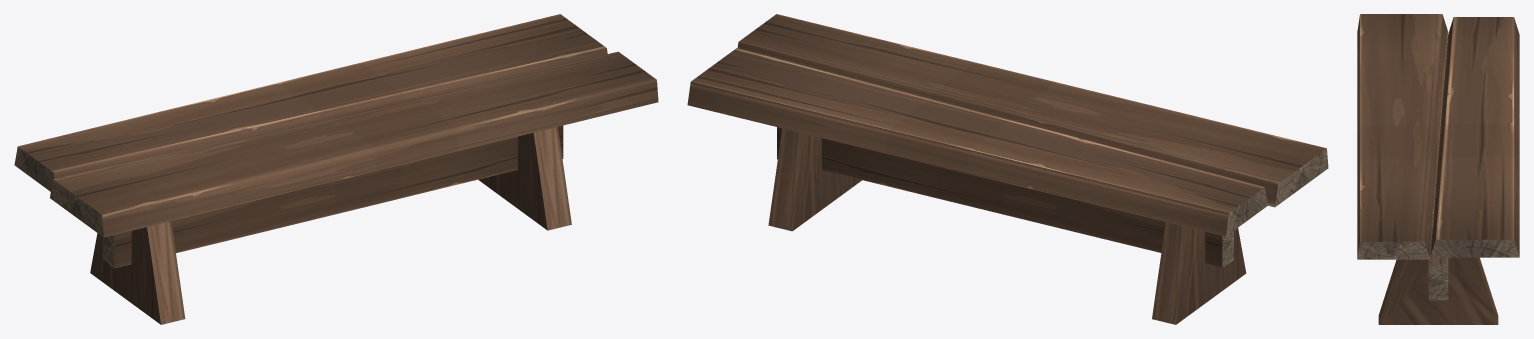
Rendered from Item_Stool.FBX.
3 views of the same model, side by side, from view 1: azimuth 30°, elevation 25°; view 2: azimuth 150°, elevation 25°; view 3: azimuth 270°, elevation 25° (orthographic). The views are drawn at different scales.
Visible parts, largest first — view 1: Item_Stool; view 2: Item_Stool; view 3: Item_Stool.
Boxes of the visible parts, x1,y1,x2,y2 form: Item_Stool: [14, 14, 658, 324]; Item_Stool: [687, 14, 1328, 324]; Item_Stool: [1357, 14, 1519, 324].
Bounding box in the file's own units: 219 × 50.92 × 65.89.
